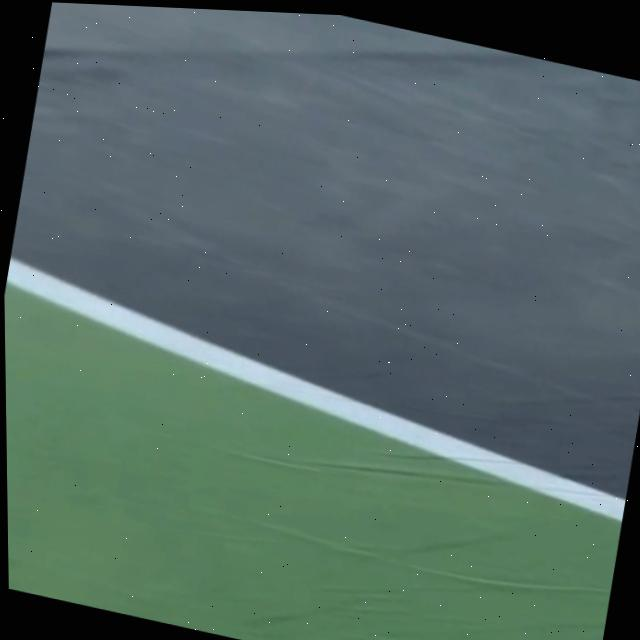right: (6, 255, 625, 520)
